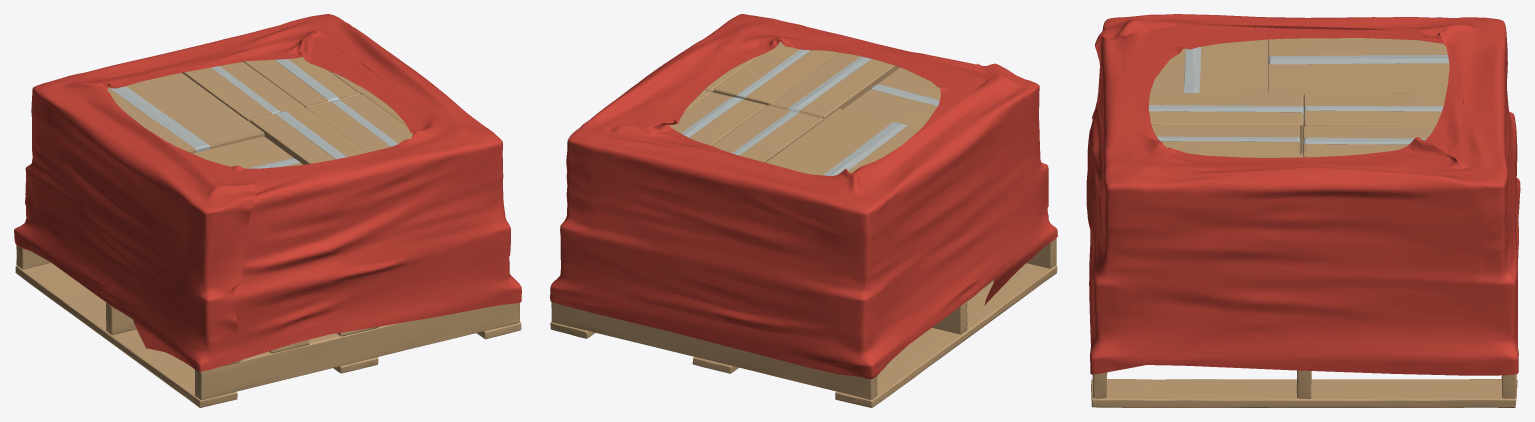
Rendered from pallet_assembly_red_a02.glb.
3 views of the same model, side by side, from view 1: azimuth 30°, elevation 25°; view 2: azimuth 150°, elevation 25°; view 3: azimuth 270°, elevation 25° (orthographic). The views are drawn at different scales.
Size of the model in its own units: 0.9069 by 0.5387 by 0.9166.
